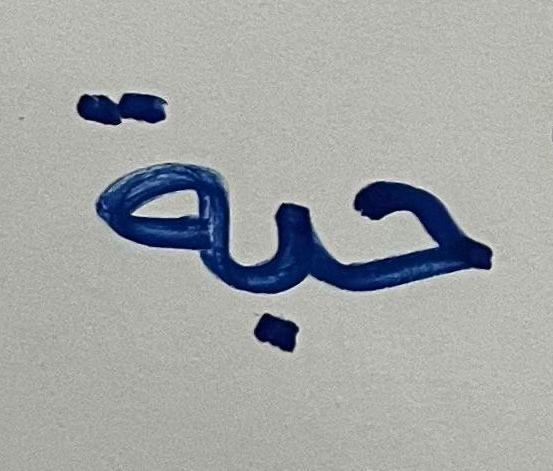beh: (239, 118, 339, 385)
hah: (343, 75, 528, 379)
teh_marbota: (54, 45, 236, 311)
